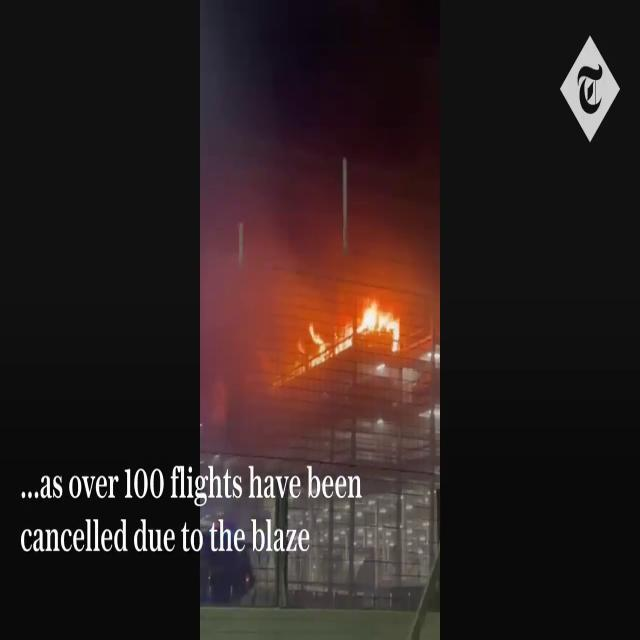Fire: (300, 288, 406, 366)
